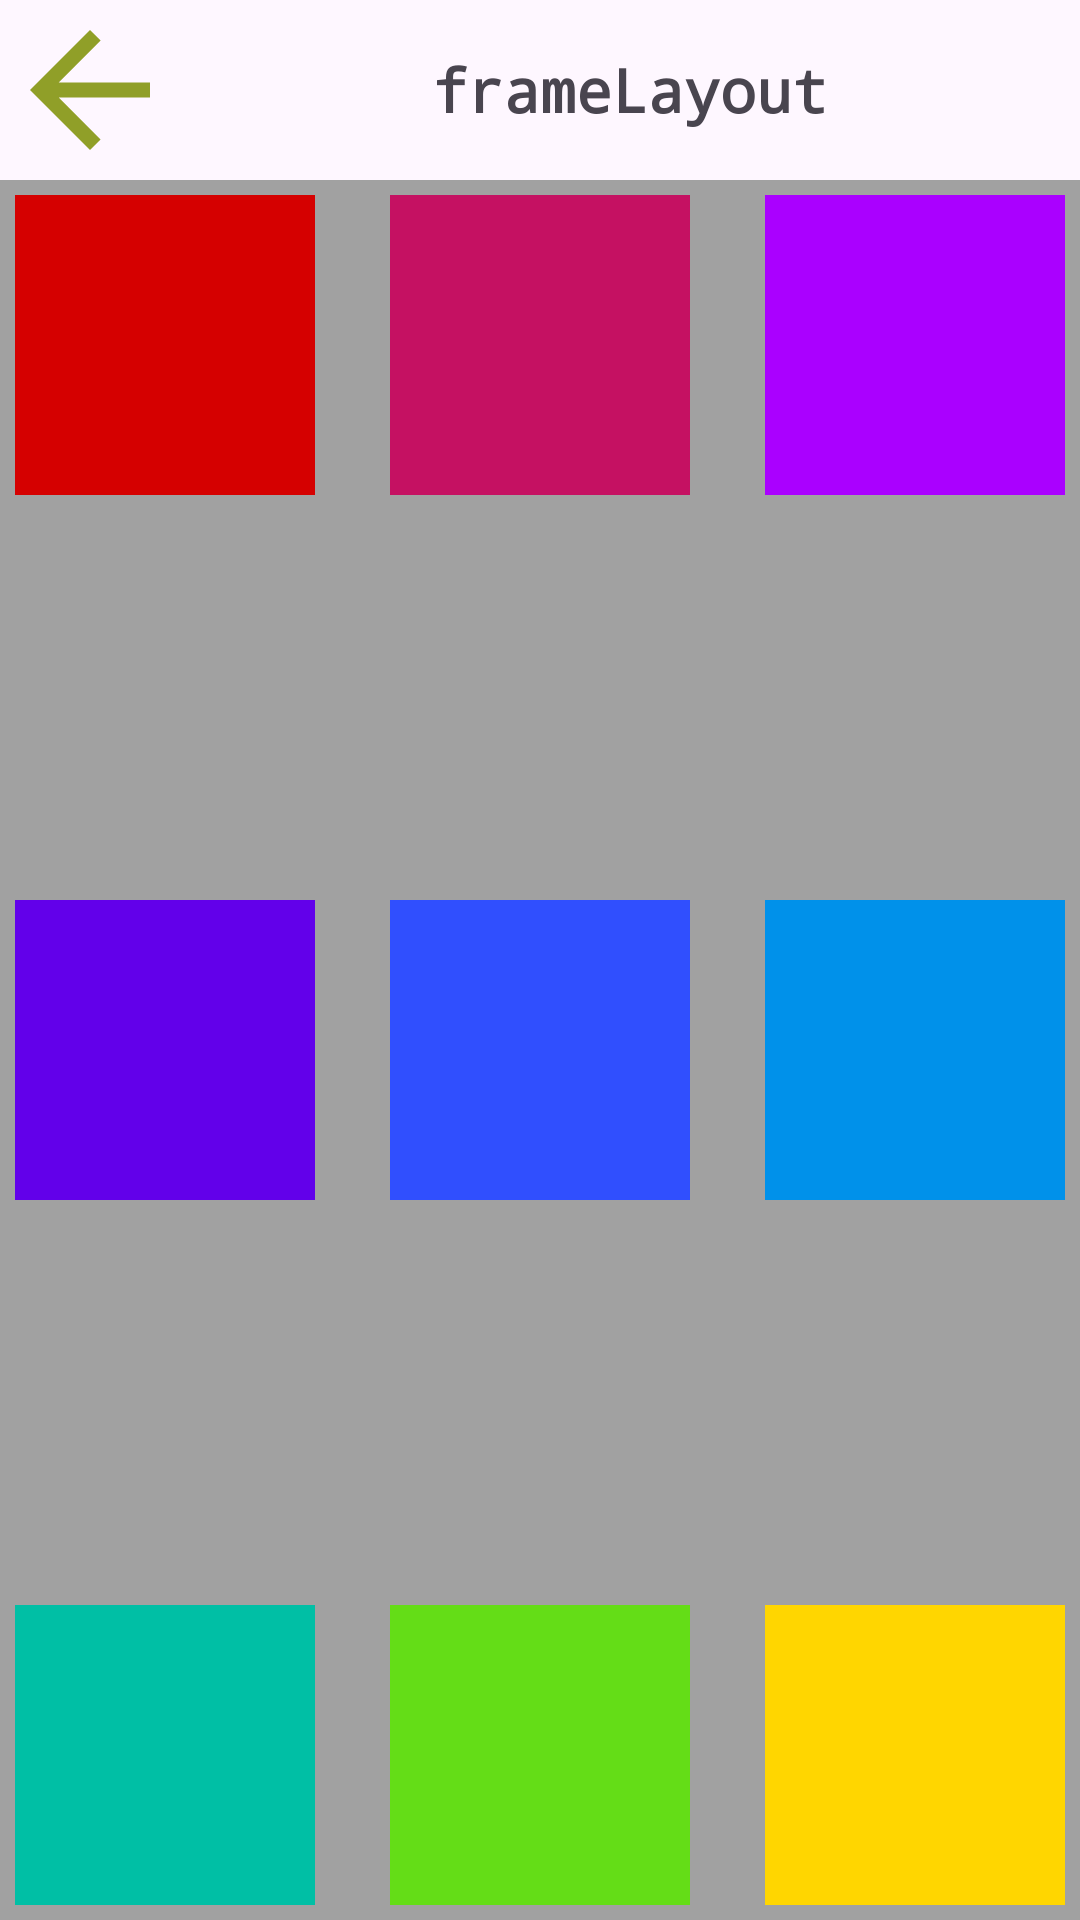

Icons on this 1080×1920 Android screen, each with the point to tap as [x,y]:
arrow back: [90,90]
